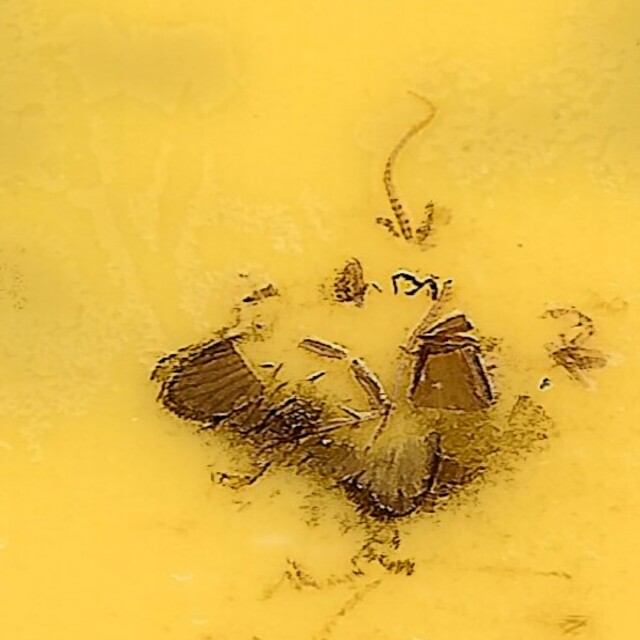Trichoptera: (144, 116, 496, 524)
